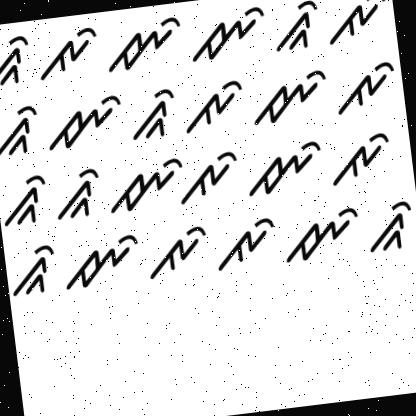ay: (139, 217, 214, 289), (324, 128, 403, 190), (330, 54, 402, 121), (178, 72, 249, 136), (210, 210, 280, 274), (34, 24, 103, 86), (182, 148, 246, 210), (324, 0, 391, 49)
nggay: (48, 163, 109, 228), (267, 0, 326, 62), (7, 237, 62, 303), (363, 196, 416, 263), (126, 83, 182, 145), (0, 169, 53, 232), (0, 101, 45, 163), (0, 30, 36, 93)
njay: (100, 11, 188, 84), (182, 0, 272, 70), (278, 204, 366, 272), (43, 91, 130, 159), (60, 227, 144, 297), (104, 152, 184, 218), (247, 66, 332, 128), (244, 138, 328, 200)
